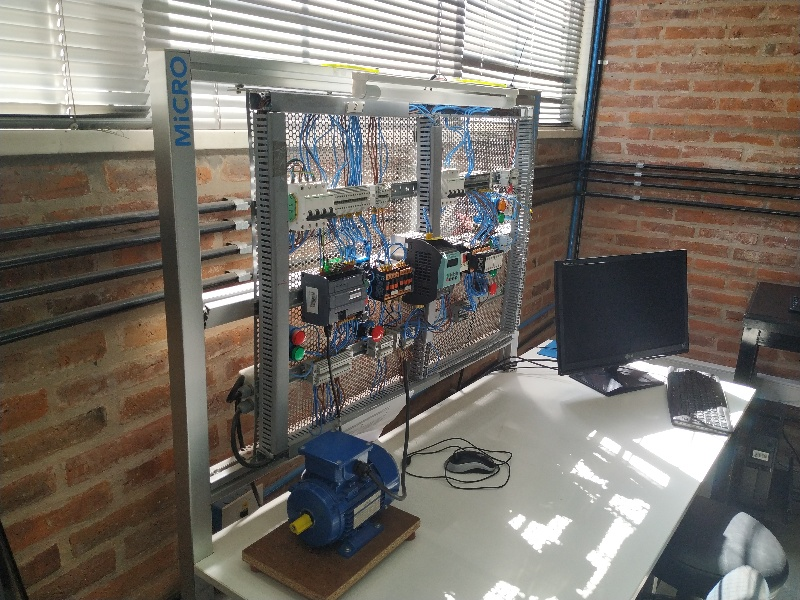Tablero 2: (275, 104, 521, 405)
